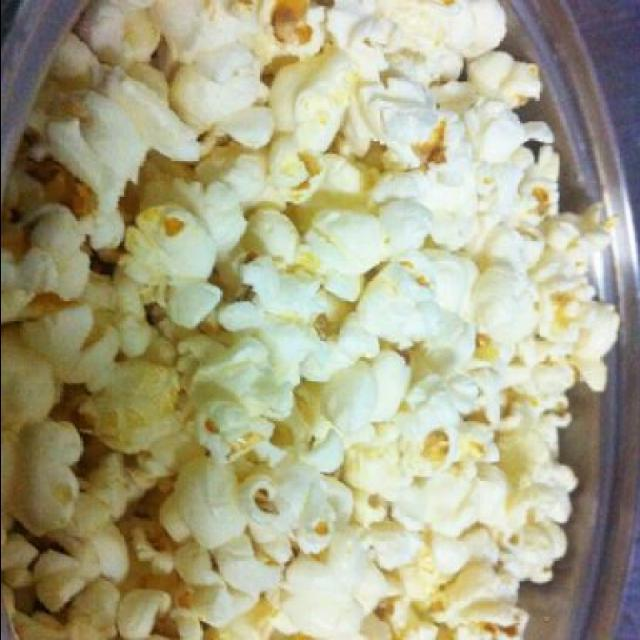Popcorn: (2, 0, 620, 637)
